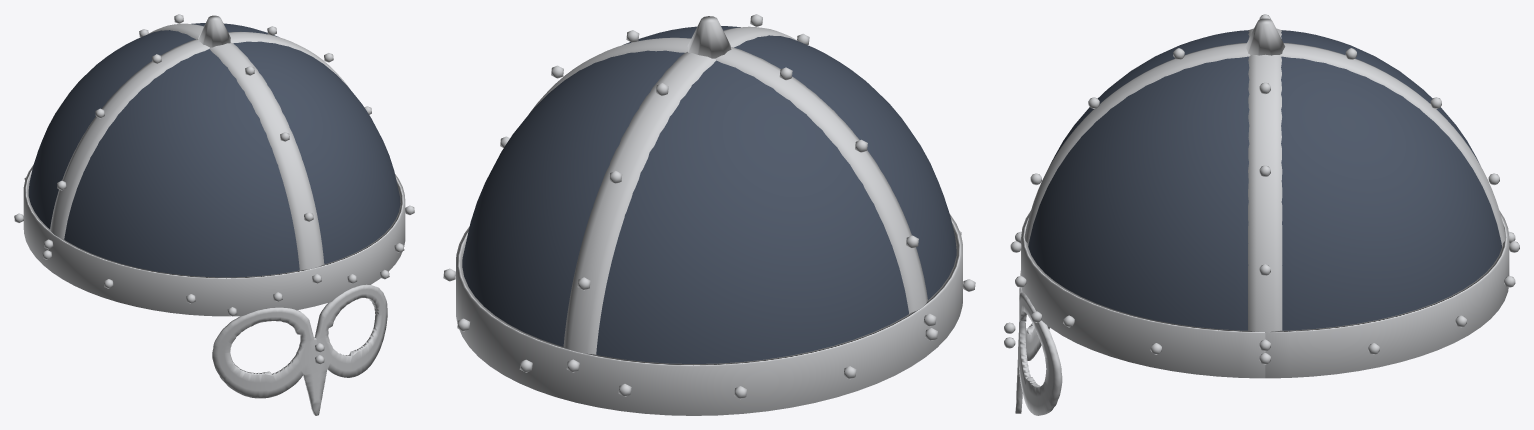
Rendered from gjermundbu_helmet_v2.glb.
3 renders of one model, left to right at view 1: azimuth 30°, elevation 25°; view 2: azimuth 150°, elevation 25°; view 3: azimuth 270°, elevation 25°, orthographic. The views are drawn at different scales.
Visible parts, largest first — view 1: Gjermundbu Bowl, Gjermundbu Brow Band, Gjermundbu Spectacle Guard, Gjermundbu Crest Band, Gjermundbu Side Band, Gjermundbu Rivets & Knob; view 2: Gjermundbu Bowl, Gjermundbu Brow Band, Gjermundbu Crest Band, Gjermundbu Side Band, Gjermundbu Rivets & Knob; view 3: Gjermundbu Bowl, Gjermundbu Brow Band, Gjermundbu Side Band, Gjermundbu Crest Band, Gjermundbu Rivets & Knob, Gjermundbu Spectacle Guard.
Boxes of the visible parts, x1=… form: Gjermundbu Bowl: x1=28, y1=23, x2=400, y2=277; Gjermundbu Brow Band: x1=23, y1=165, x2=405, y2=316; Gjermundbu Spectacle Guard: x1=212, y1=284, x2=387, y2=415; Gjermundbu Crest Band: x1=148, y1=23, x2=324, y2=270; Gjermundbu Side Band: x1=50, y1=31, x2=349, y2=239; Gjermundbu Rivets & Knob: x1=14, y1=14, x2=414, y2=364; Gjermundbu Bowl: x1=462, y1=26, x2=956, y2=363; Gjermundbu Brow Band: x1=456, y1=214, x2=962, y2=415; Gjermundbu Crest Band: x1=563, y1=26, x2=797, y2=354; Gjermundbu Side Band: x1=528, y1=37, x2=927, y2=313; Gjermundbu Rivets & Knob: x1=443, y1=14, x2=975, y2=399; Gjermundbu Bowl: x1=1028, y1=30, x2=1501, y2=330; Gjermundbu Brow Band: x1=1021, y1=211, x2=1509, y2=378; Gjermundbu Side Band: x1=1248, y1=28, x2=1282, y2=331; Gjermundbu Crest Band: x1=1024, y1=43, x2=1505, y2=246; Gjermundbu Rivets & Knob: x1=1004, y1=14, x2=1519, y2=364; Gjermundbu Spectacle Guard: x1=1015, y1=271, x2=1062, y2=415.
Size of the model in its own units: 0.2517 by 0.2262 by 0.2701.
